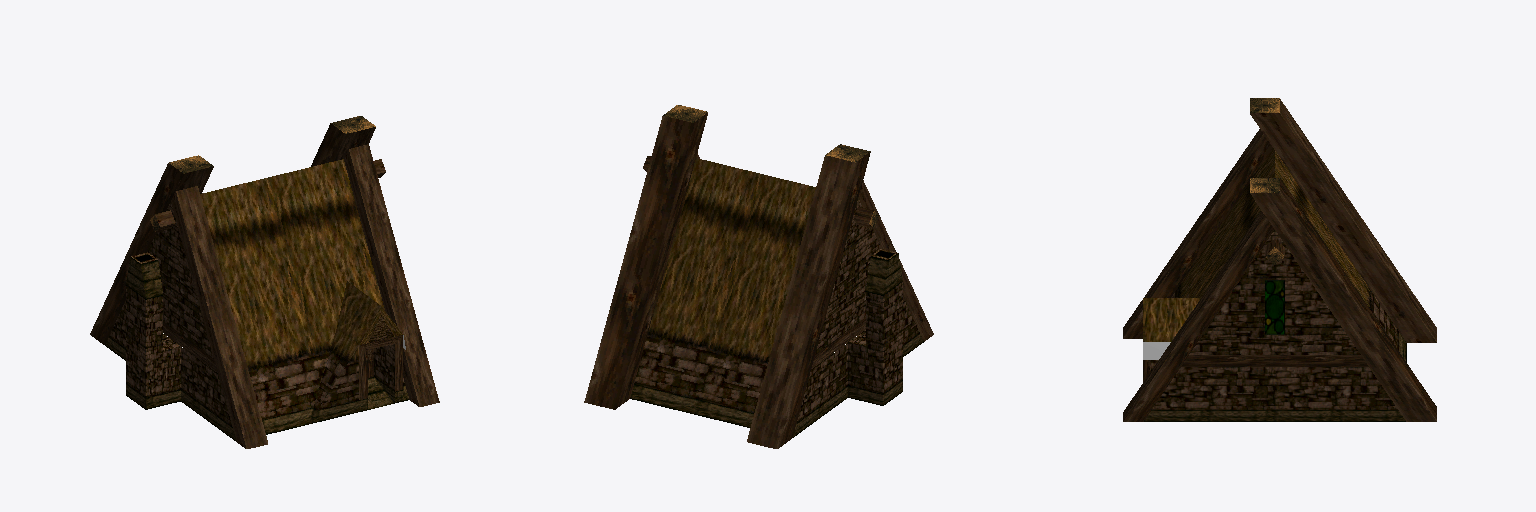
3 renders of one model, left to right at view 1: azimuth 30°, elevation 25°; view 2: azimuth 150°, elevation 25°; view 3: azimuth 270°, elevation 25°, orthographic.
Size of the model in its own units: 2.8 by 2.5 by 3.1.
Materials: 12 (11 with a texture image).